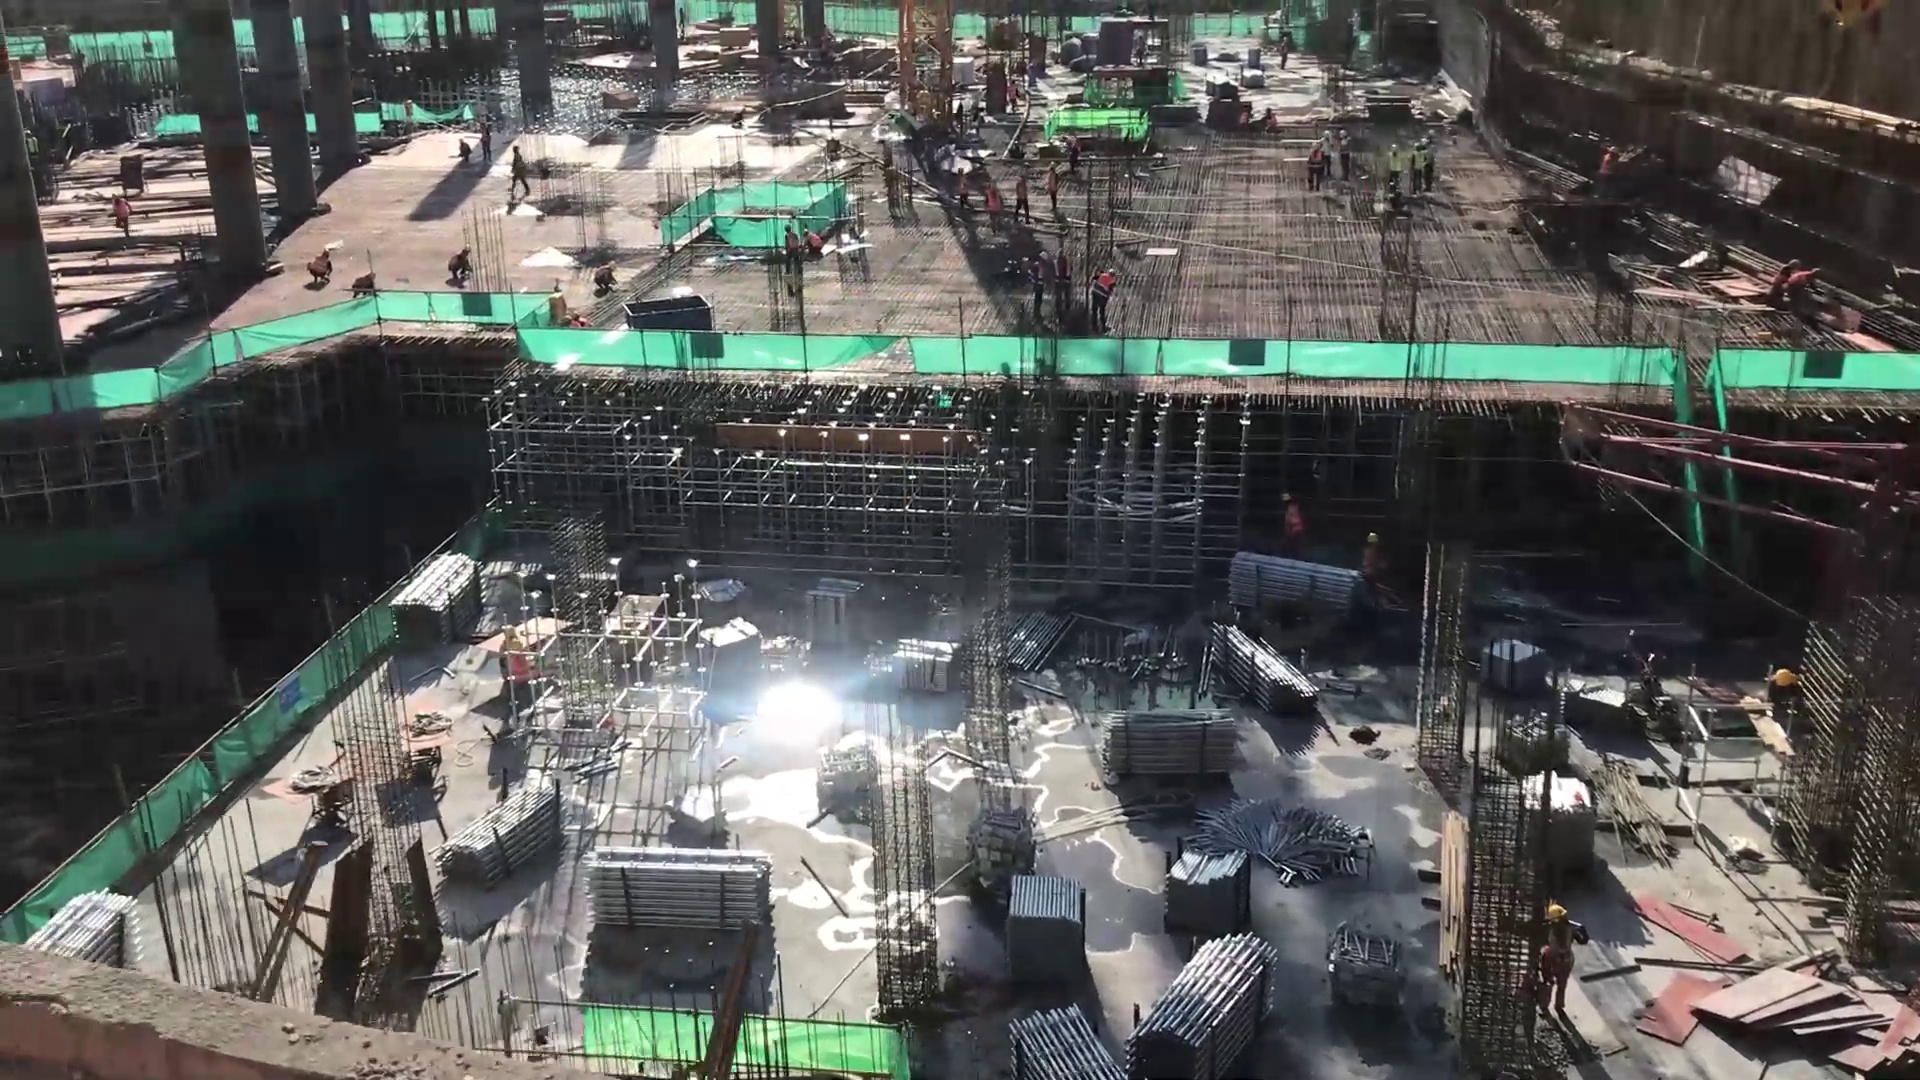board: (1692, 957, 1858, 1045)
helmet: (1545, 904, 1567, 918), (501, 625, 514, 637)
person: (1533, 901, 1587, 1014), (489, 621, 538, 721), (1355, 530, 1393, 597), (1088, 263, 1120, 333), (1274, 493, 1310, 556), (1597, 144, 1624, 212), (503, 139, 532, 203), (977, 181, 1006, 237), (1789, 261, 1821, 313), (1772, 252, 1797, 316), (1026, 249, 1046, 326), (1052, 247, 1075, 308), (307, 244, 336, 287), (444, 240, 475, 281), (1011, 171, 1032, 229), (1384, 141, 1404, 201), (107, 193, 136, 232), (1315, 130, 1335, 188), (1338, 127, 1354, 188), (955, 162, 972, 218), (781, 225, 801, 273), (1418, 133, 1431, 205), (1410, 141, 1423, 206), (1044, 161, 1060, 213), (1427, 127, 1440, 188), (595, 259, 619, 293), (1308, 141, 1324, 191), (354, 270, 378, 300), (478, 121, 495, 164), (805, 229, 825, 258), (453, 136, 473, 166)
scaffold: (1130, 934, 1279, 1068), (592, 842, 774, 933), (20, 888, 151, 979), (1095, 705, 1239, 782), (1210, 621, 1321, 718), (441, 790, 557, 876), (1006, 998, 1121, 1080), (1228, 550, 1356, 614), (1166, 836, 1249, 927), (1013, 876, 1085, 975), (398, 549, 471, 636), (698, 620, 760, 692), (806, 578, 861, 655), (1012, 606, 1066, 674)
